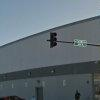Traffic light: (44, 29, 65, 55)
